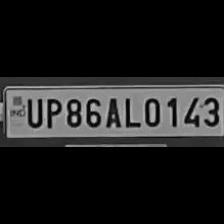0: (140, 95, 162, 127)
1: (162, 95, 180, 127)
3: (200, 93, 220, 126)
4: (180, 93, 200, 126)
6: (82, 95, 102, 127)
8: (62, 96, 82, 128)
A: (103, 94, 123, 128)
L: (120, 94, 140, 128)
P: (42, 96, 62, 128)
U: (23, 94, 43, 128)
